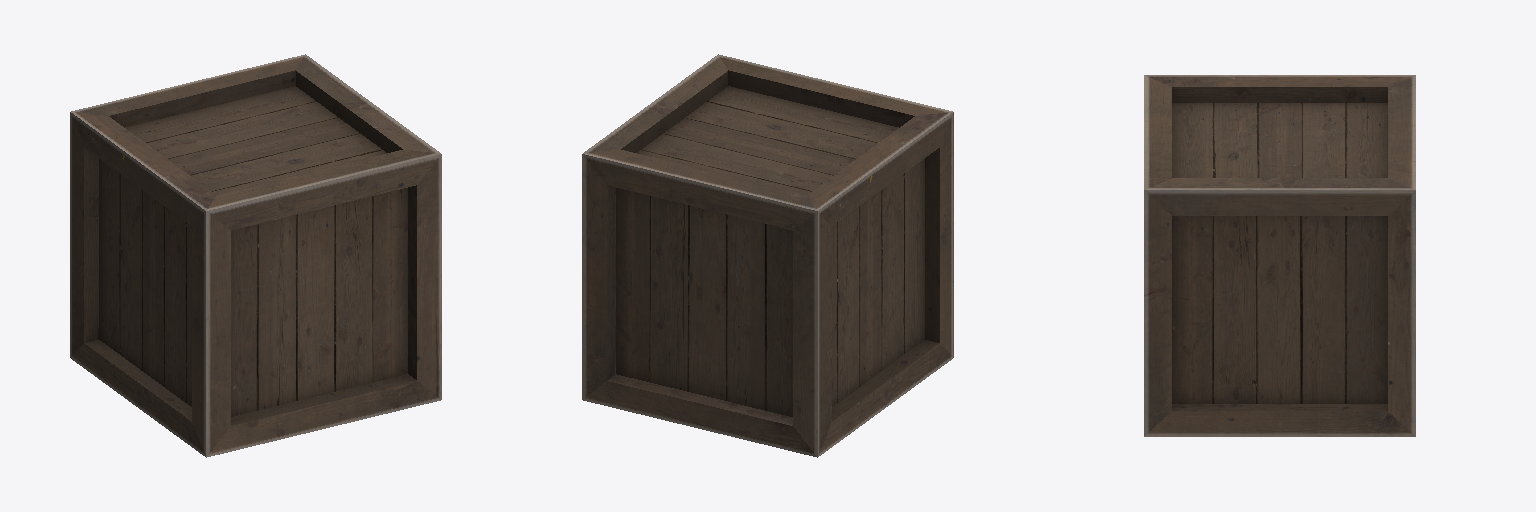
The picture shows the model from 3 angles: view 1: azimuth 30°, elevation 25°; view 2: azimuth 150°, elevation 25°; view 3: azimuth 270°, elevation 25°; orthographic projection.
Parts seen in each view (by area): view 1: Cube.001_Cube.004; view 2: Cube.001_Cube.004; view 3: Cube.001_Cube.004.
Boxes of the visible parts, x1,y1,x2,y2 form: Cube.001_Cube.004: [70, 54, 441, 457]; Cube.001_Cube.004: [582, 54, 953, 457]; Cube.001_Cube.004: [1144, 75, 1415, 436].
Size of the model in its own units: 88.19 by 88.19 by 88.19.
Materials: 1 (1 with a texture image).